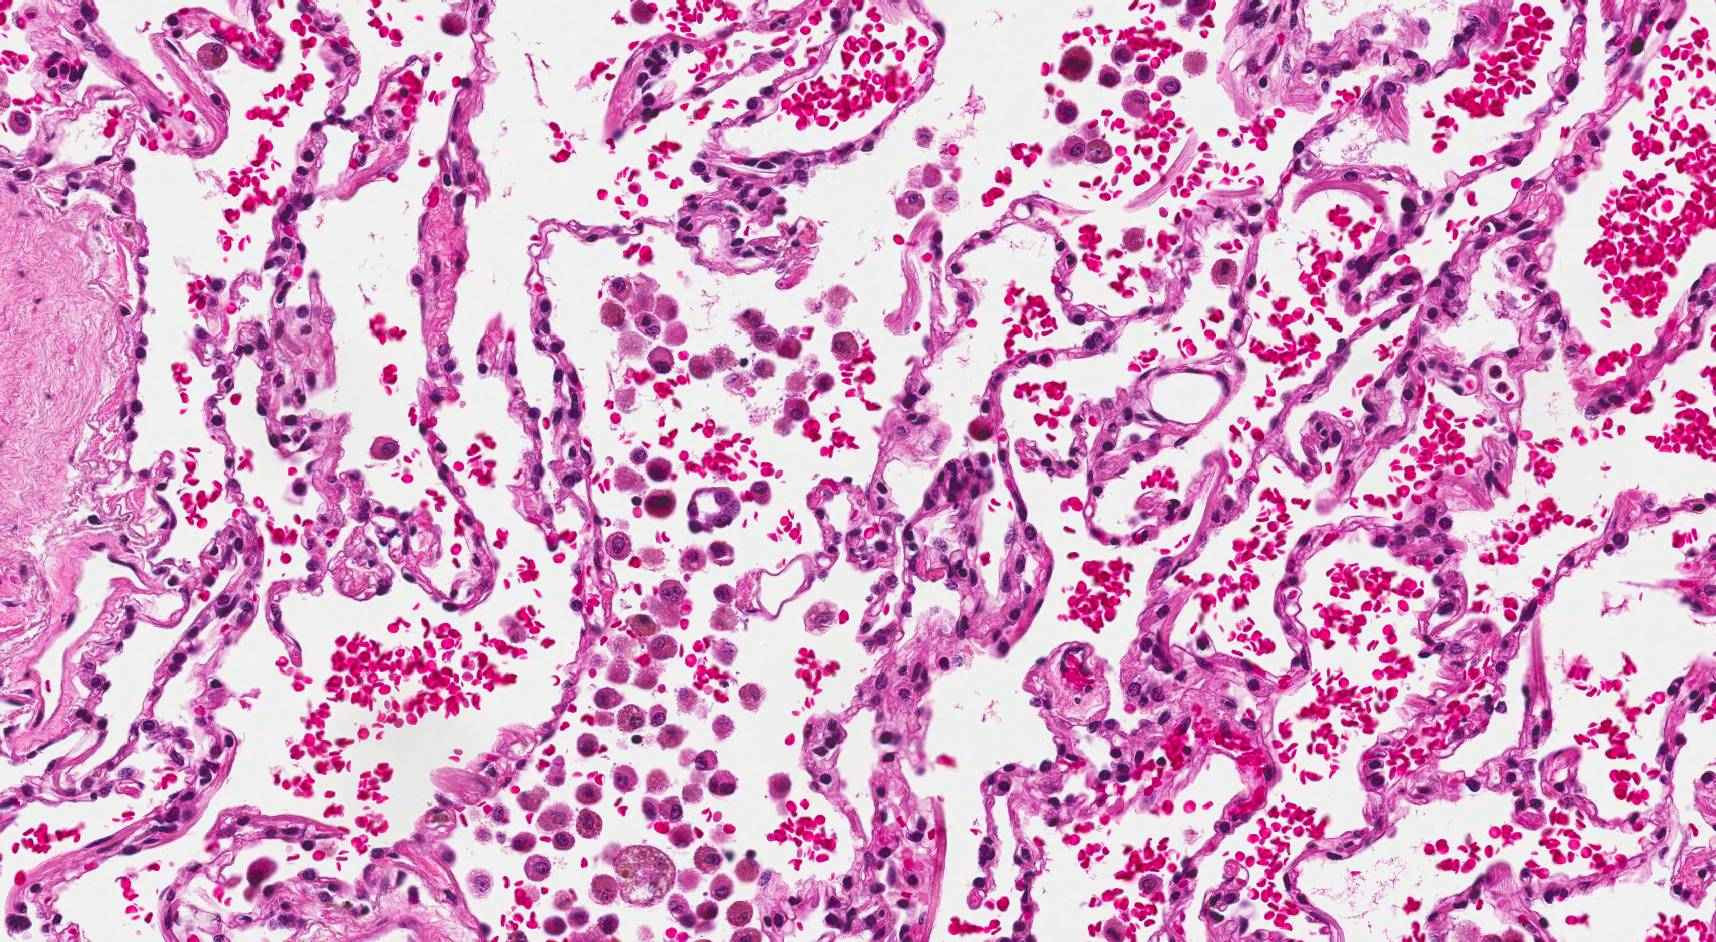stas: (685, 485, 744, 535)
